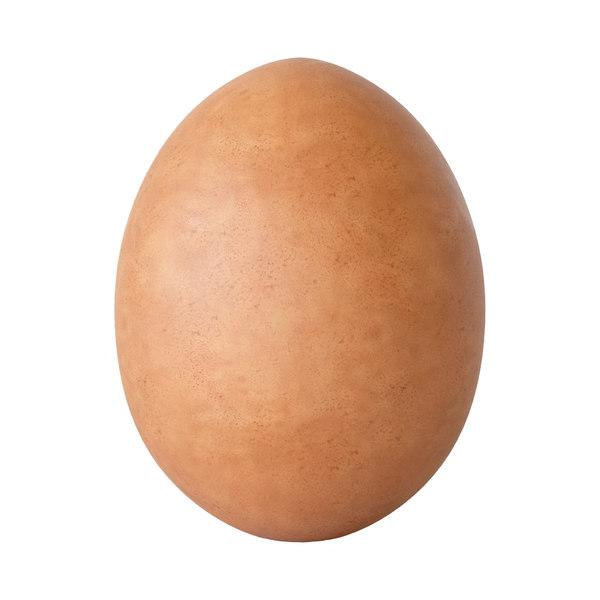egg: (110, 56, 489, 545)
